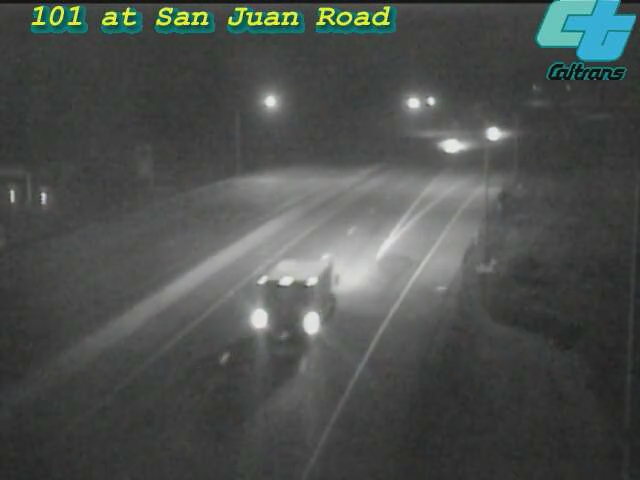vehicle: (246, 269, 326, 349), (467, 110, 517, 160), (425, 121, 475, 171)
